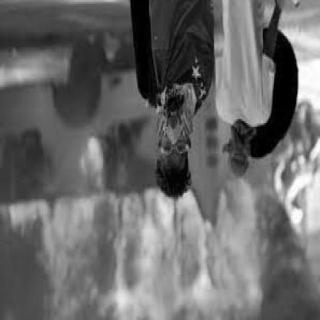Fire: (1, 140, 301, 320)
